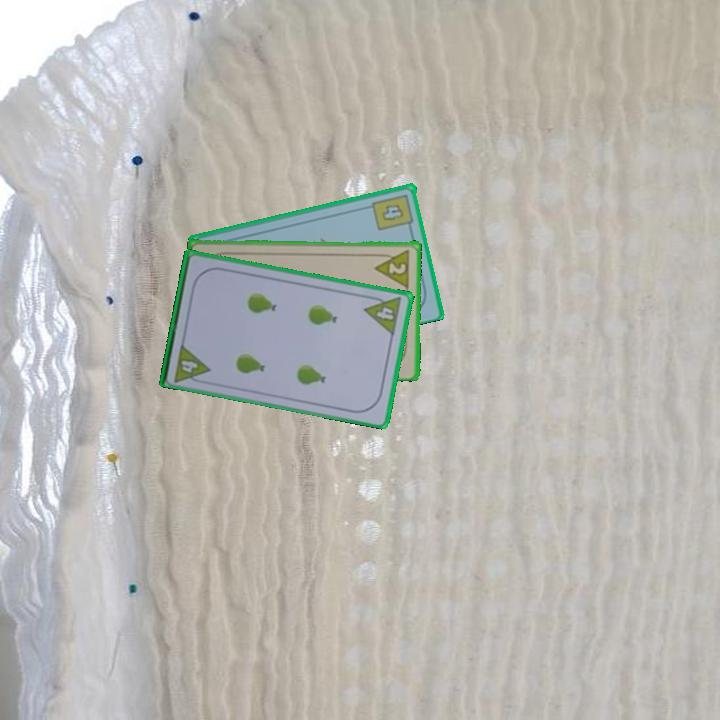2p: (372, 246, 413, 289)
4b: (369, 190, 416, 233)
4p: (361, 291, 404, 338), (171, 340, 212, 387)
